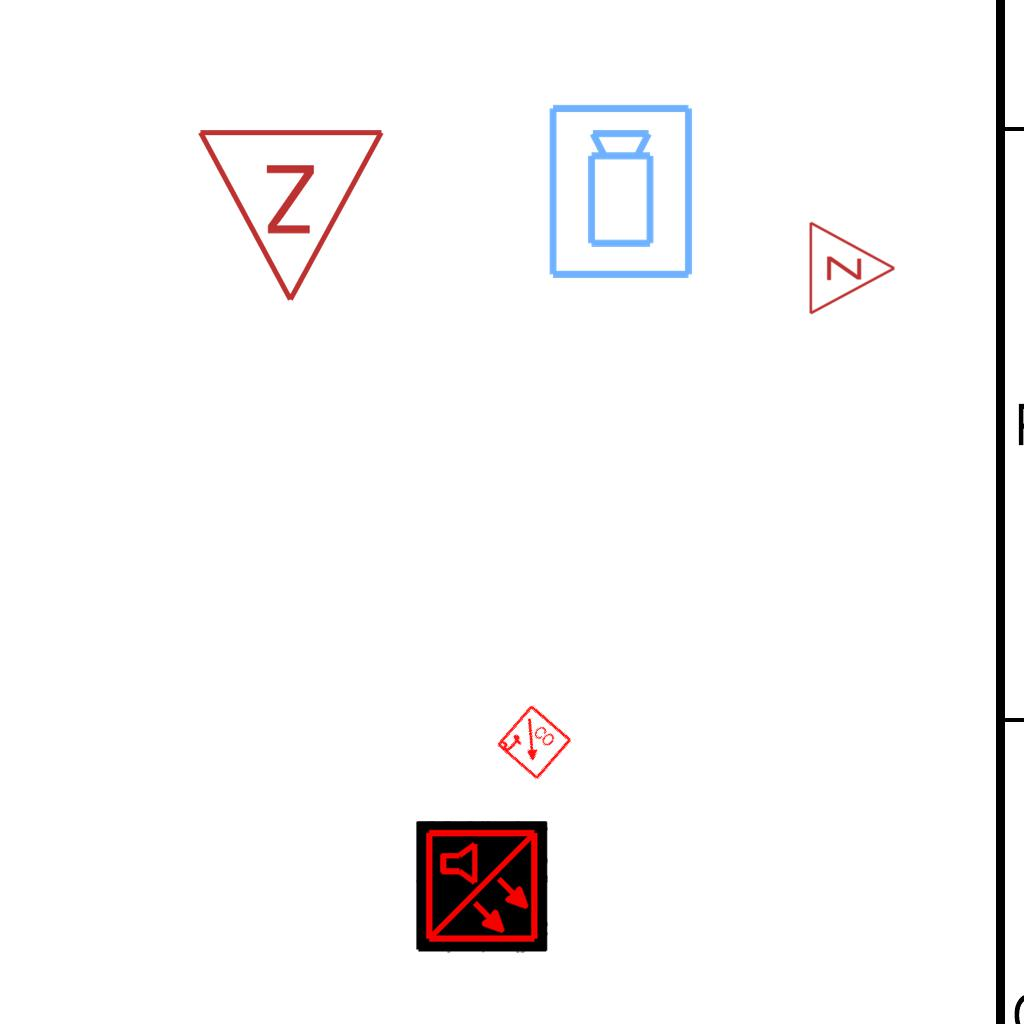KFO_Kamera_mit_Festobjektiv: (545, 101, 699, 283)
OKW_Multisensormelder_(Kombination_optischer_Rauch-Kahlenmonoxid_Waerme-Melder): (416, 821, 548, 953)
ROA_Rauchmelder_optisch_mit_Signalgeber_(Sockelsirene): (494, 703, 574, 783)
Zimmersignalleuchte: (195, 115, 391, 315), (802, 218, 902, 316)
